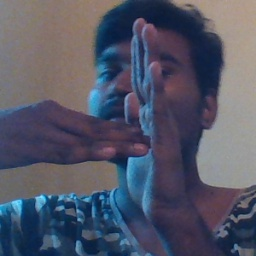Z: (65, 18, 195, 218)
